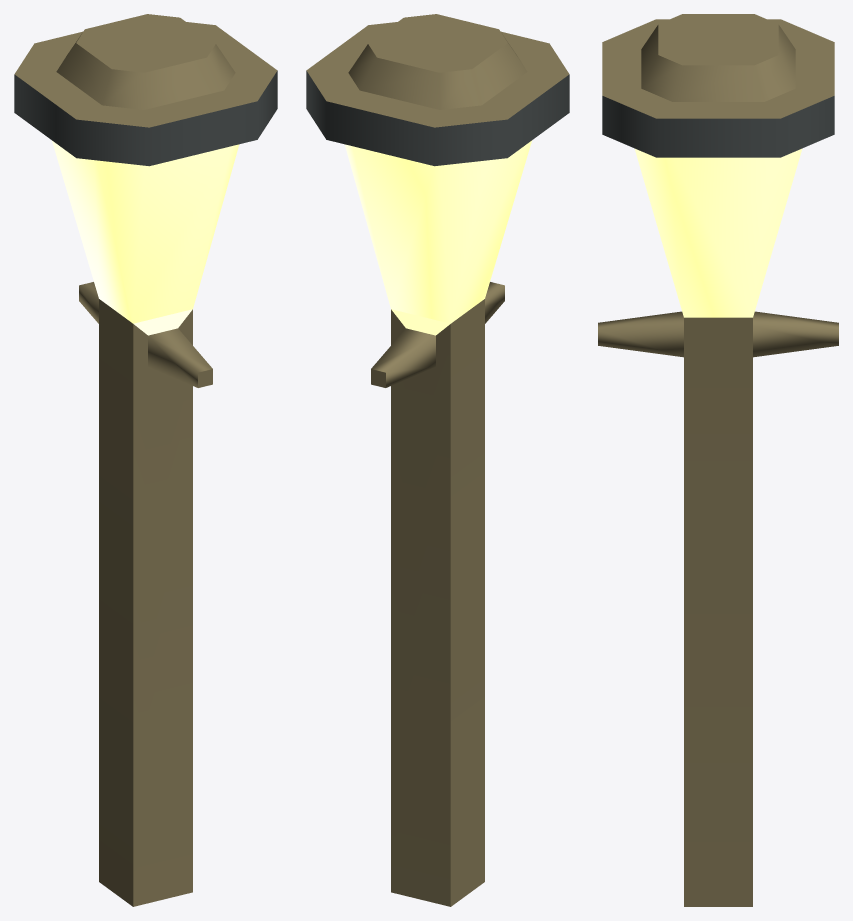
Rendered from WharfLight.glb.
3 renders of one model, left to right at view 1: azimuth 30°, elevation 25°; view 2: azimuth 150°, elevation 25°; view 3: azimuth 270°, elevation 25°, orthographic.
Parts seen in each view (by area): view 1: WharfLight; view 2: WharfLight; view 3: WharfLight.
Boxes of the visible parts, <box> form: WharfLight: <box>14,14,277,906</box>; WharfLight: <box>306,14,569,906</box>; WharfLight: <box>598,14,838,906</box>.
Size of the model in its own units: 0.39 by 1.56 by 0.4.
